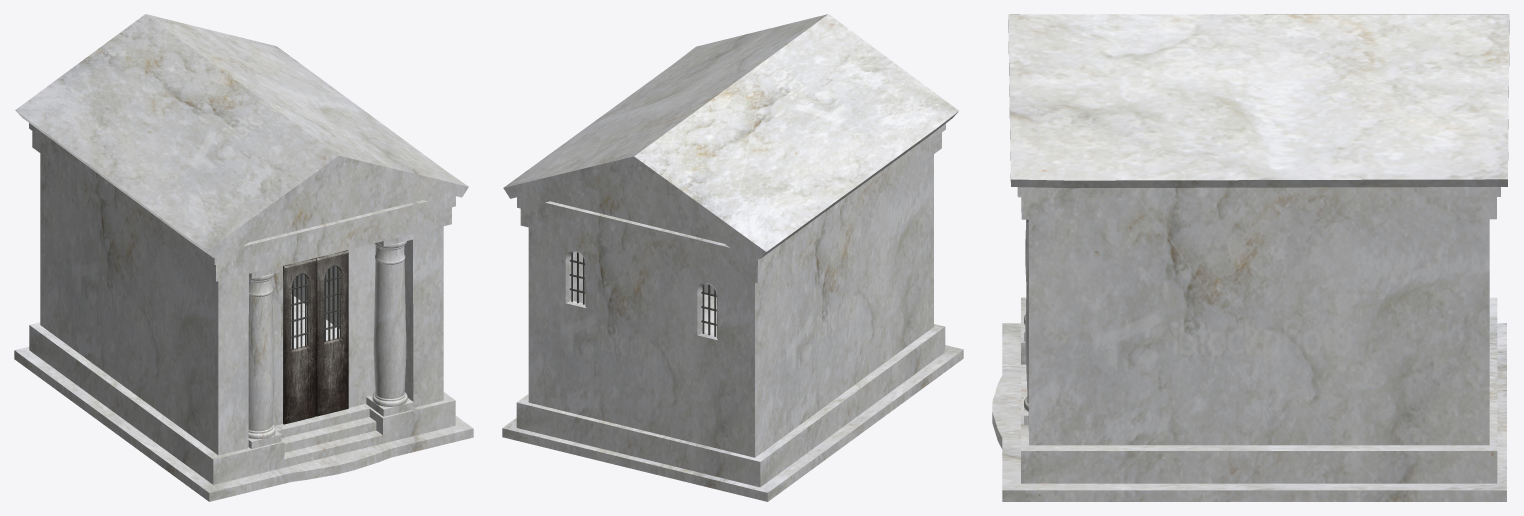
The model's file is Mausoleum.FBX.
The picture shows the model from 3 angles, left to right: view 1: azimuth 30°, elevation 25°; view 2: azimuth 150°, elevation 25°; view 3: azimuth 270°, elevation 25°; orthographic projection. The views are drawn at different scales.
Parts seen in each view (by area): view 1: mausoleum, pillar02, pillar1, Door1, door2, bars2, bars1; view 2: mausoleum; view 3: mausoleum, pillar02.
Boxes of the visible parts, x1,y1,x2,y2 form: mausoleum: (14, 14, 473, 501); pillar02: (366, 233, 413, 416); pillar1: (248, 266, 281, 448); Door1: (283, 258, 316, 424); door2: (315, 250, 348, 416); bars2: (324, 266, 340, 341); bars1: (291, 274, 307, 349); mausoleum: (502, 14, 963, 501); mausoleum: (992, 14, 1509, 501); pillar02: (1024, 219, 1028, 424).
Size of the model in its own units: 67.56 by 88.45 by 76.29.
Materials: 3 (3 with a texture image).
